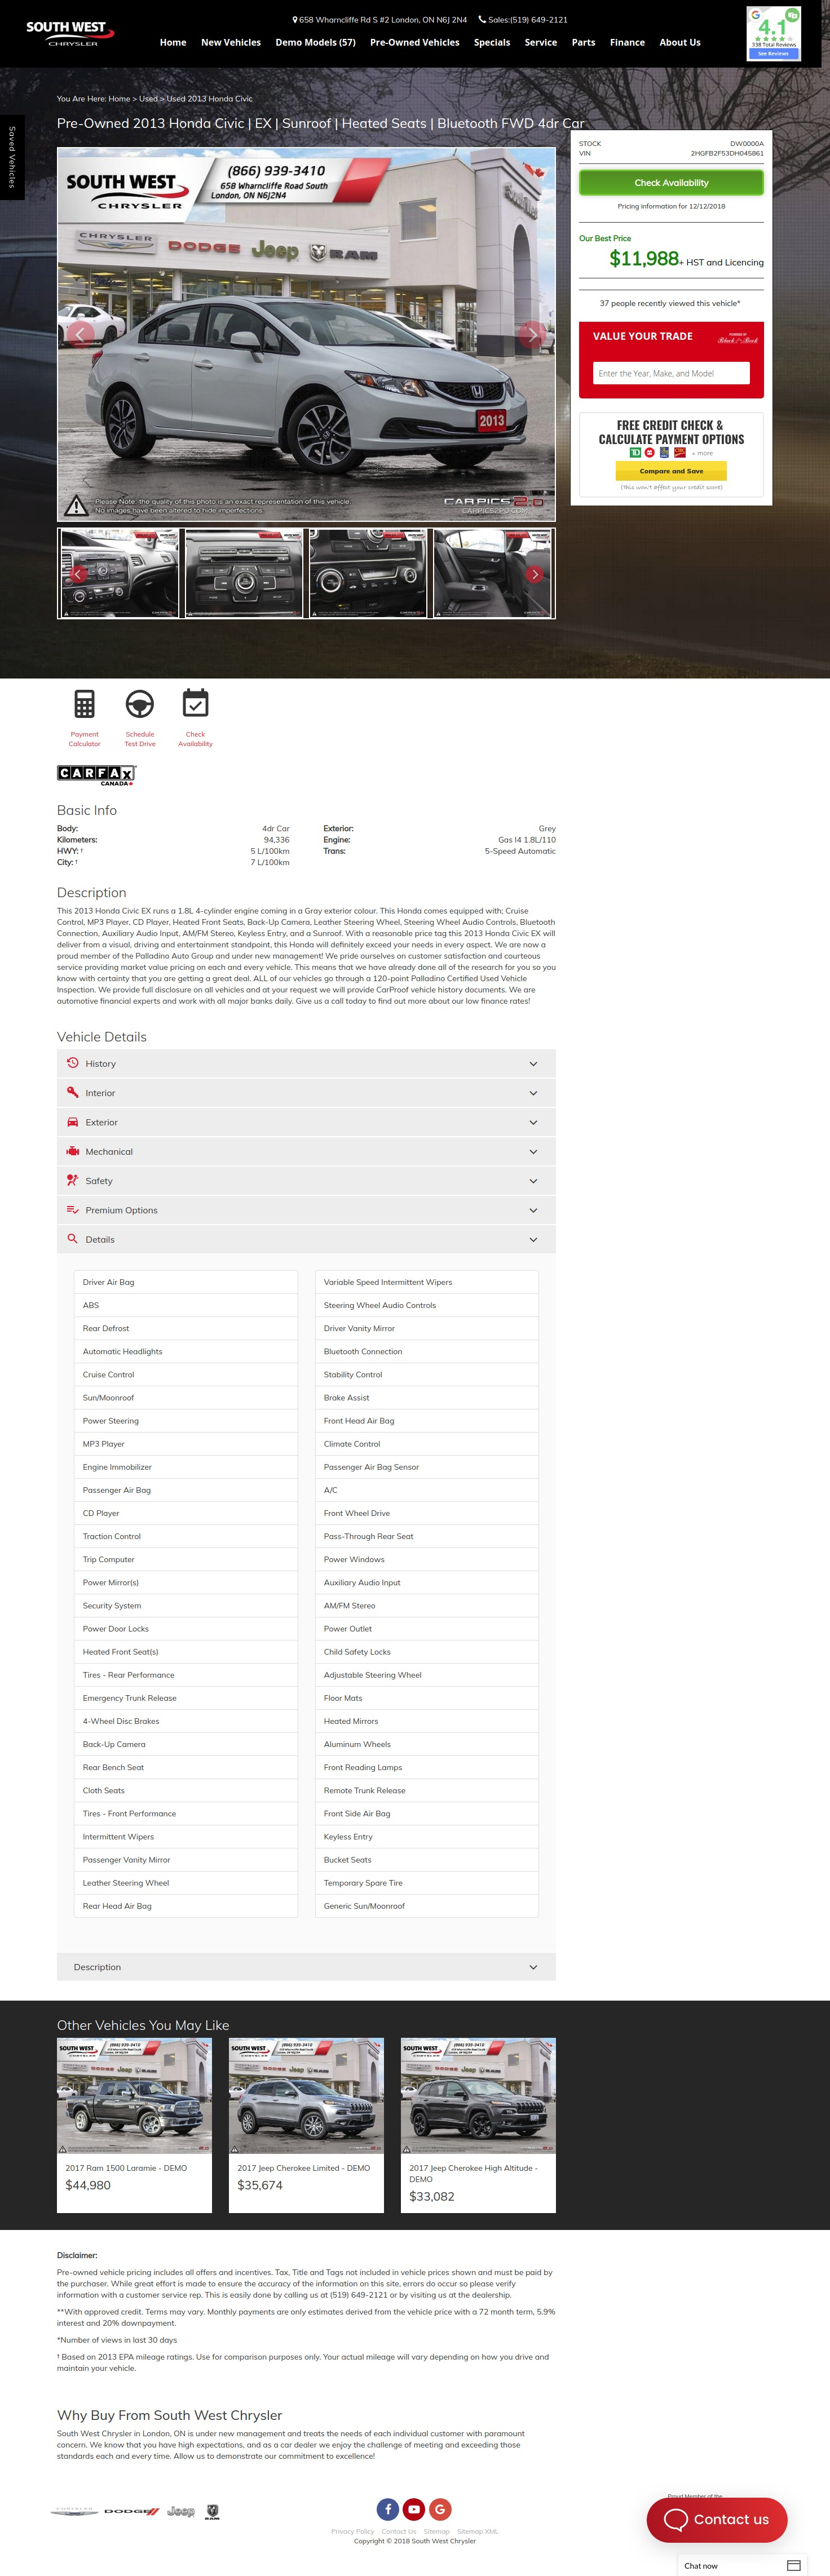car: (524, 565, 544, 585)
